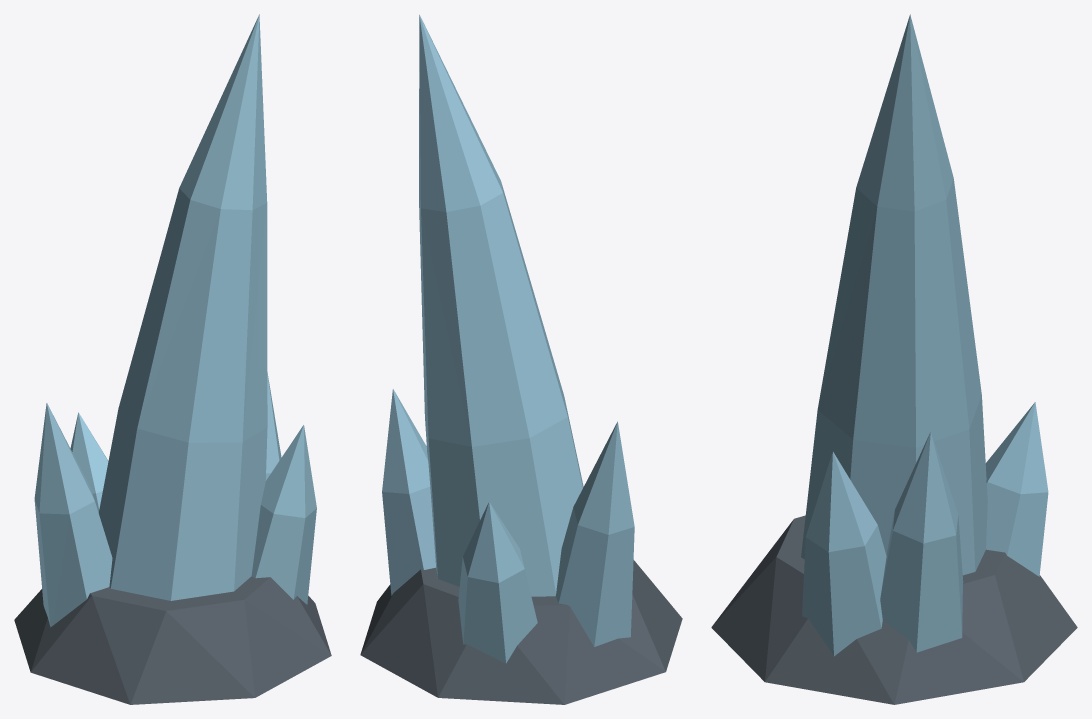
Rendered from FM_IceSpire.fbx.
3 renders of one model, left to right at view 1: azimuth 30°, elevation 25°; view 2: azimuth 150°, elevation 25°; view 3: azimuth 270°, elevation 25°, orthographic. The views are drawn at different scales.
Visible parts, largest first — view 1: FM_IceSpire_Ice, FM_IceSpire_Base; view 2: FM_IceSpire_Ice, FM_IceSpire_Base; view 3: FM_IceSpire_Ice, FM_IceSpire_Base.
Part boxes in pixels (left/top/right/bottom): FM_IceSpire_Ice: left=34, top=14, right=316, bottom=627; FM_IceSpire_Base: left=14, top=576, right=331, bottom=704; FM_IceSpire_Ice: left=382, top=14, right=634, bottom=663; FM_IceSpire_Base: left=360, top=560, right=682, bottom=704; FM_IceSpire_Ice: left=801, top=14, right=1048, bottom=656; FM_IceSpire_Base: left=711, top=515, right=1077, bottom=704.
Bounding box in the file's own units: 7 × 14 × 7.
